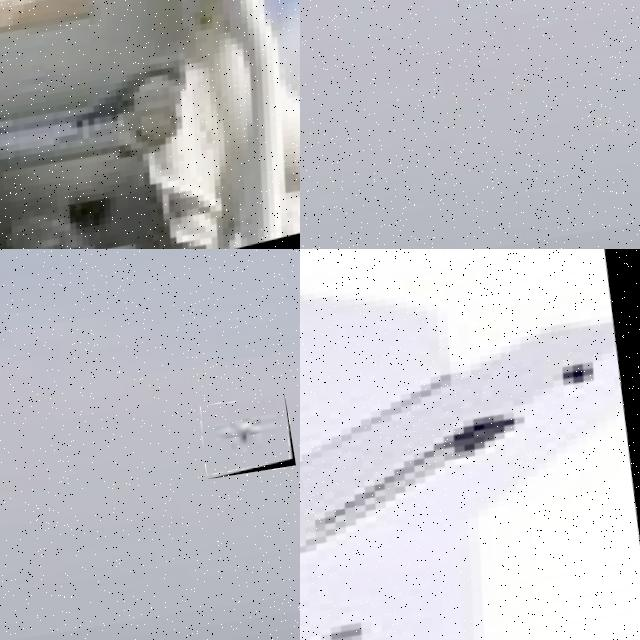0: (197, 394, 296, 479)
drone: (300, 249, 640, 640), (0, 0, 300, 249)
